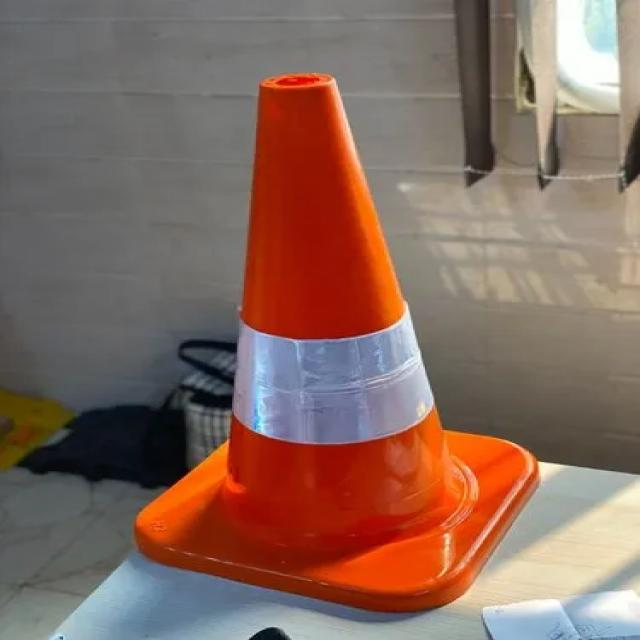Traffic Cone: (100, 29, 578, 627)
